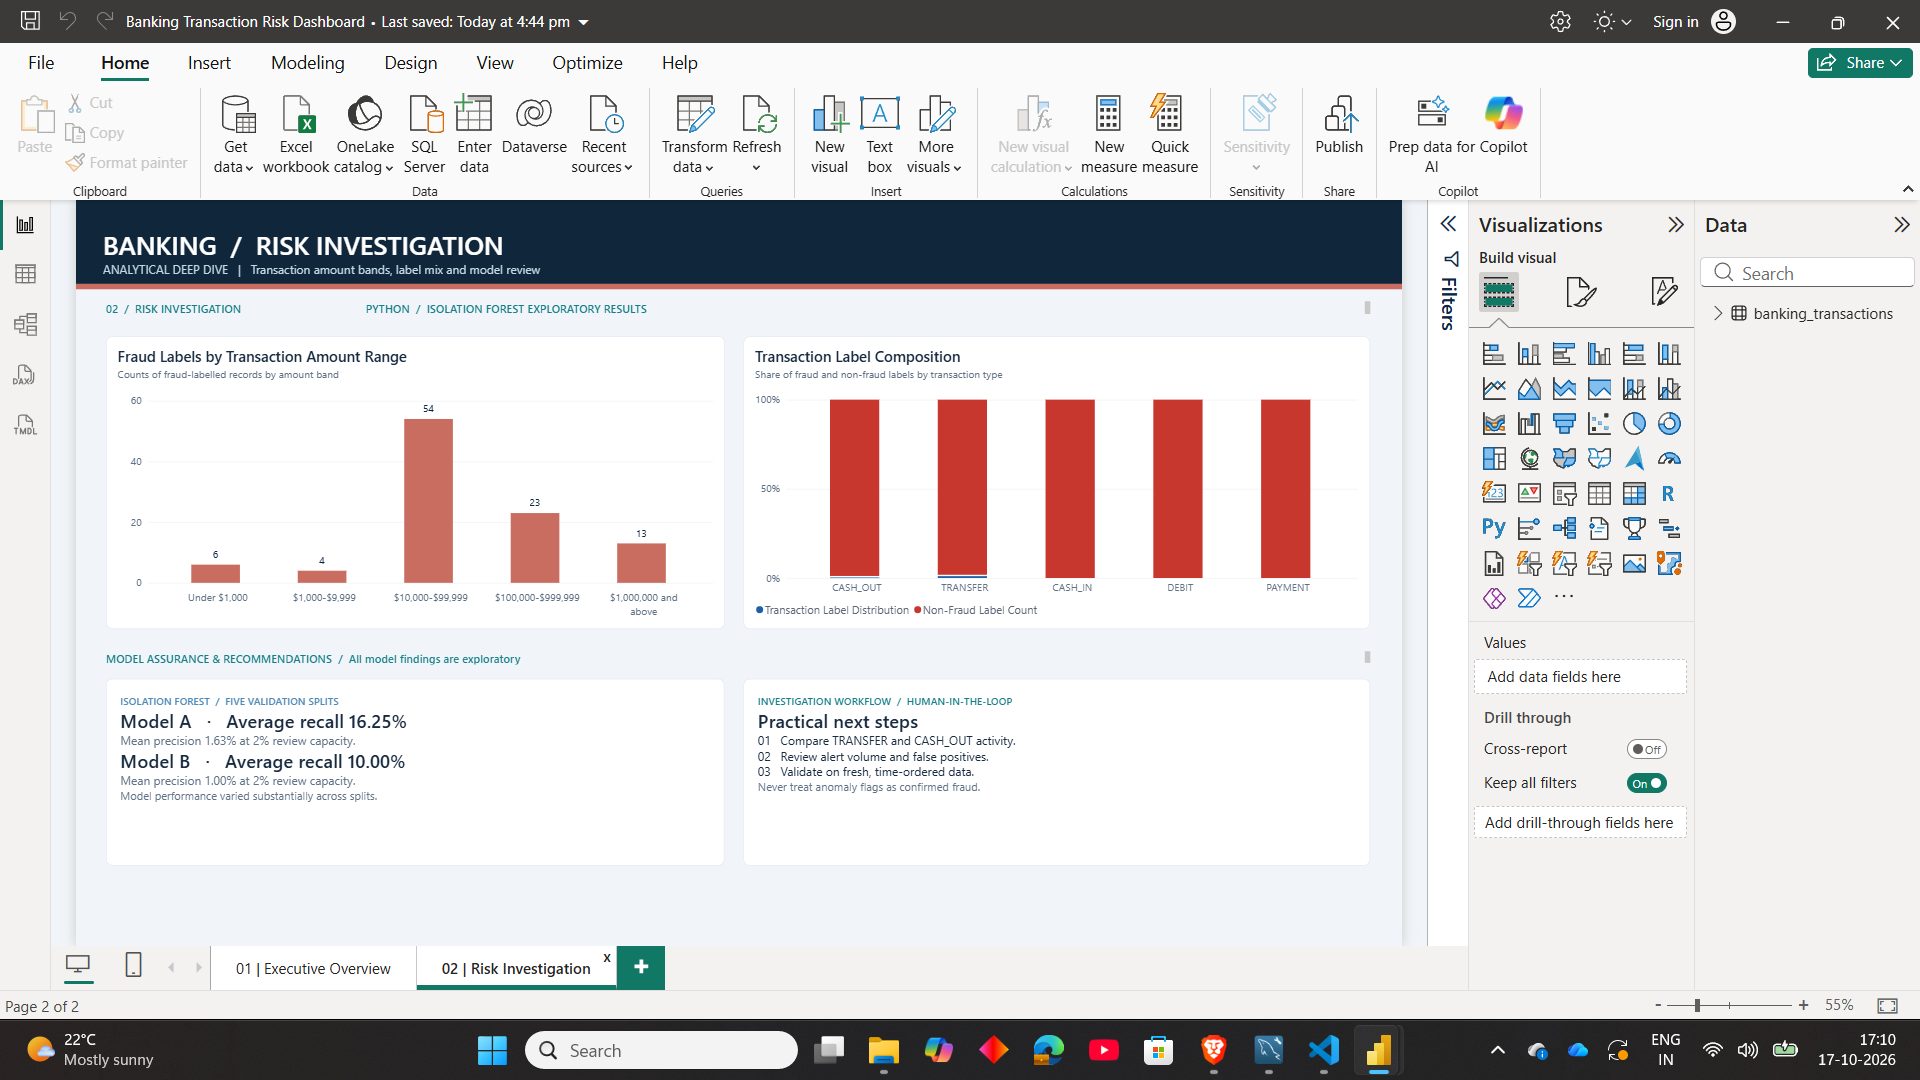

This screenshot's page, from the dashboard's own definition file:
{"tool":"powerbi","page":{"name":"02 | Risk Investigation","canvas":[1920,1080],"ordinal":1},"visuals":[{"type":"textbox","box":[0,0,1920,122],"z":250},{"type":"textbox","box":[0,122,1920,6],"z":260},{"type":"textbox","box":[44,146,1830,28],"z":270},{"type":"clusteredColumnChart","title":"Fraud Labels by Transaction Amount Range","fields":{"Category":["banking_transactions.Amount Range"],"Y":["banking_transactions.Fraud Label Count"]},"box":[44,198,896,424],"z":280},{"type":"hundredPercentStackedColumnChart","title":"Transaction Label Composition","fields":{"Category":["banking_transactions.type"],"Y":["banking_transactions.Fraud Label Count","banking_transactions.Non-Fraud Label Count"]},"box":[967,198,907,424],"z":290},{"type":"textbox","box":[44,654,1830,27],"z":300},{"type":"textbox","box":[44,694,895,270],"z":310},{"type":"textbox","box":[967,694,907,270],"z":320}]}

Visuals, with their boxes on the page's 1920x1080 design canvas (x1, y1, x2, y2). These are canvas units, not pixel positions in the 1920x1080 screenshot, which may show the page scaled, cropped or inside an application window:
textbox: box(0, 0, 1920, 122)
textbox: box(0, 122, 1920, 128)
textbox: box(44, 146, 1874, 174)
"Fraud Labels by Transaction Amount Range" clusteredColumnChart: box(44, 198, 940, 622)
"Transaction Label Composition" hundredPercentStackedColumnChart: box(967, 198, 1874, 622)
textbox: box(44, 654, 1874, 681)
textbox: box(44, 694, 939, 964)
textbox: box(967, 694, 1874, 964)
